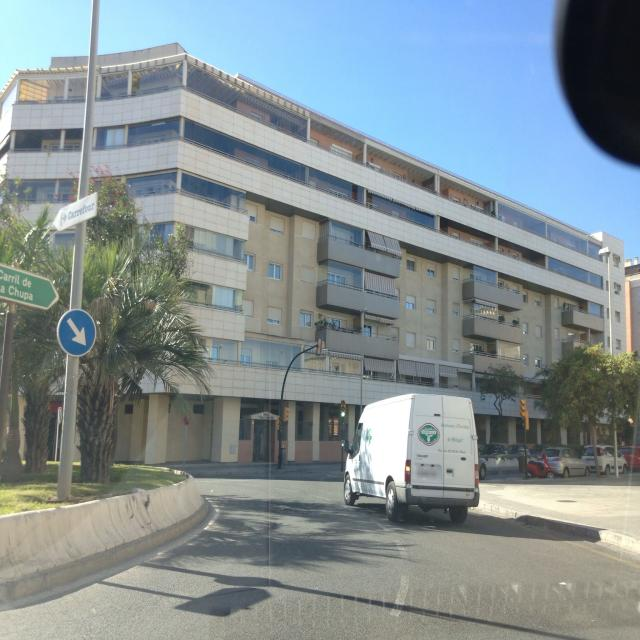car: (342, 389, 480, 523), (478, 442, 548, 478), (538, 445, 590, 479), (582, 443, 628, 476), (618, 446, 640, 472)
